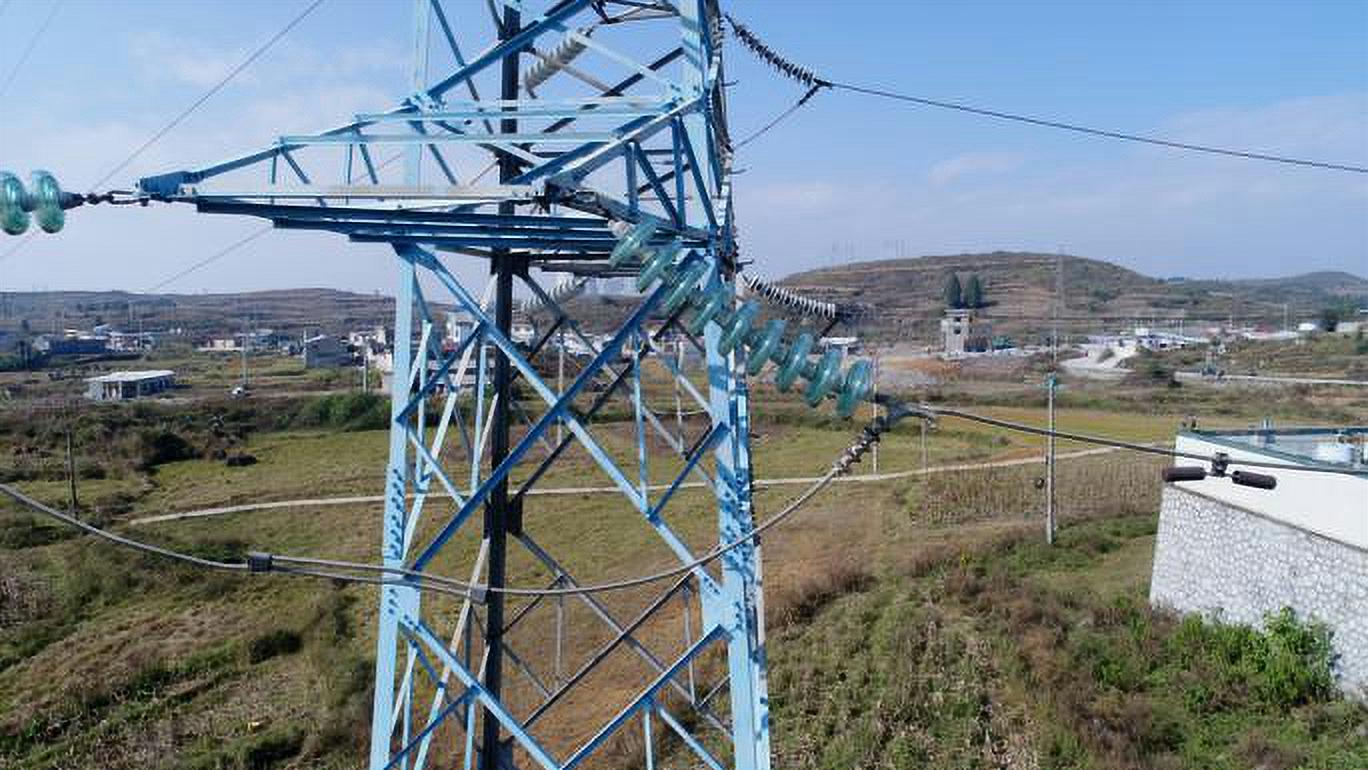insulator: (600, 211, 881, 425), (726, 17, 821, 94), (512, 17, 599, 99), (736, 261, 843, 325), (1, 163, 77, 243), (511, 270, 591, 322)
